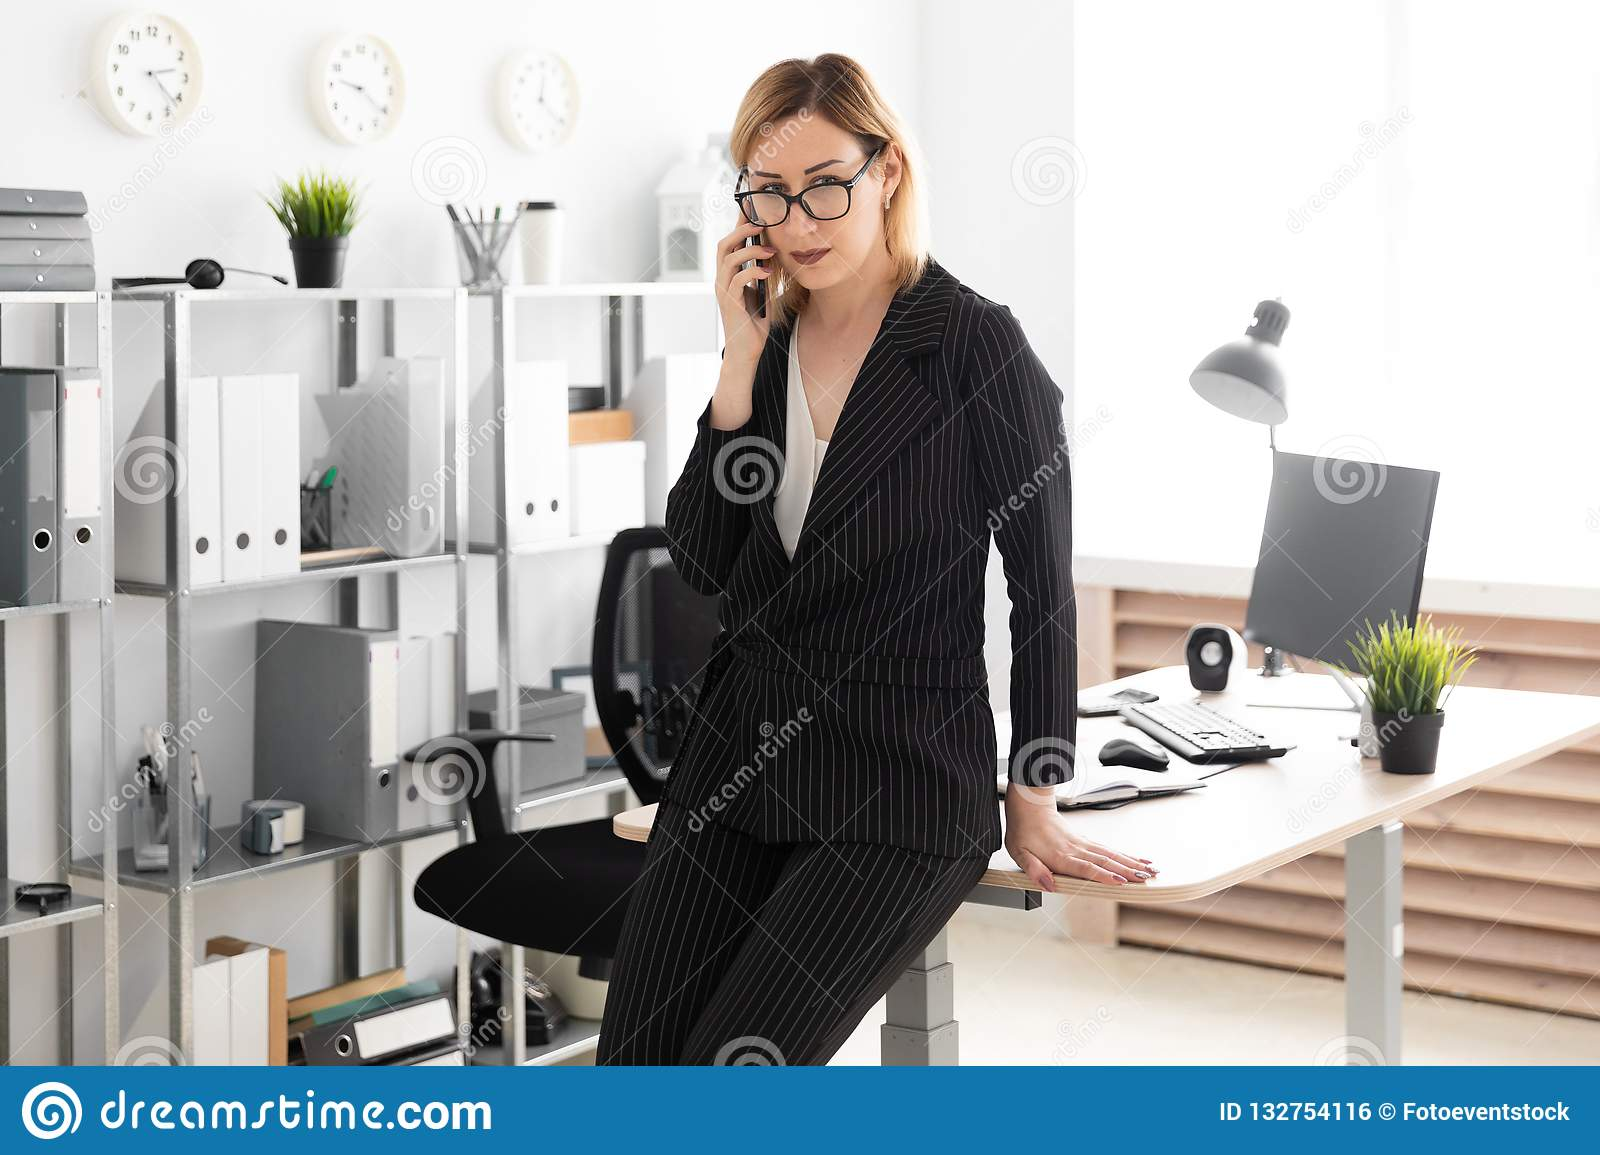phone: (708, 202, 788, 335)
talk: (687, 142, 893, 365)
